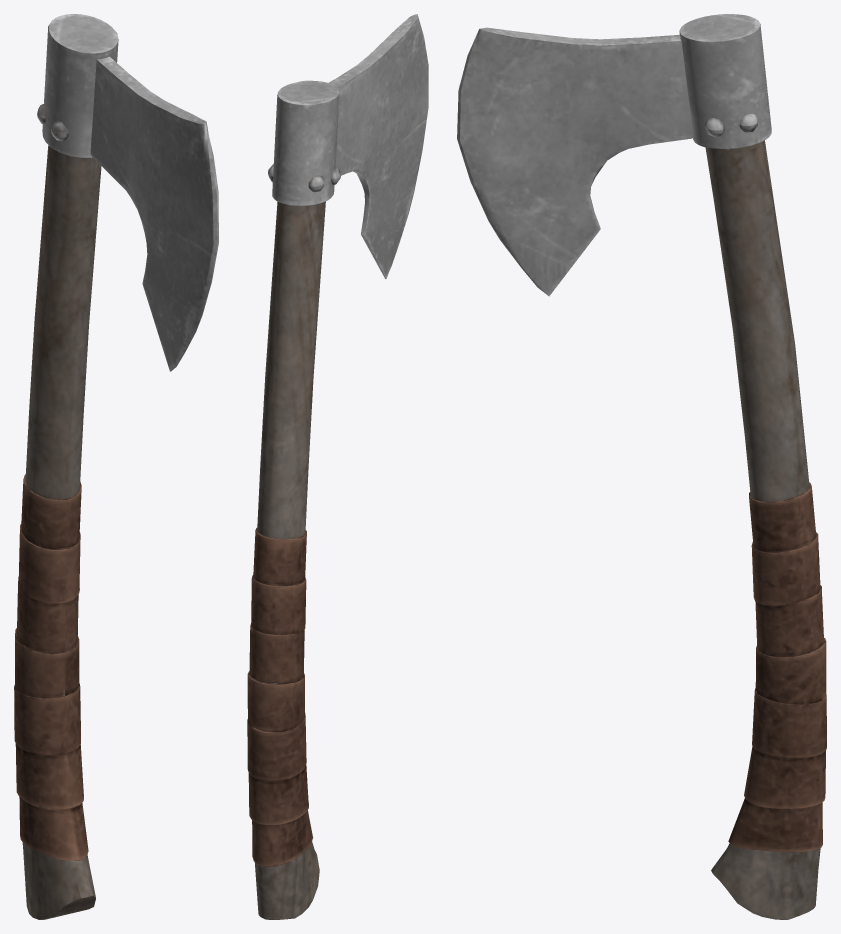
File: SM_Axe_01.fbx
3 views of the same model, side by side, from view 1: azimuth 30°, elevation 25°; view 2: azimuth 150°, elevation 25°; view 3: azimuth 270°, elevation 25° (orthographic). The views are drawn at different scales.
Visible parts, largest first — view 1: SM_Axe_01_LOD0; view 2: SM_Axe_01_LOD0; view 3: SM_Axe_01_LOD0.
Boxes of the visible parts, left/top/right/bottom form: SM_Axe_01_LOD0: left=14, top=14, right=218, bottom=919; SM_Axe_01_LOD0: left=247, top=14, right=428, bottom=919; SM_Axe_01_LOD0: left=457, top=14, right=826, bottom=919.
Bounding box in the file's own units: 4.35 × 21.58 × 57.06.
Materials: 1 (1 with a texture image).
